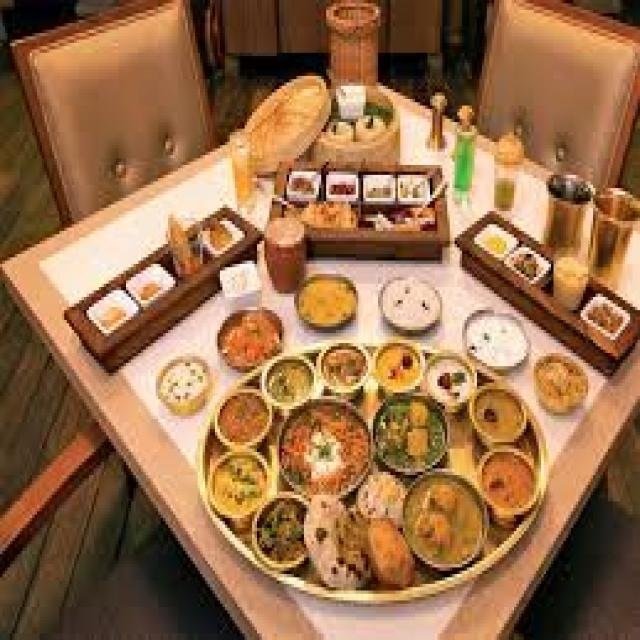curd: (459, 307, 535, 372)
dal: (478, 443, 546, 523), (201, 451, 275, 524)
raita: (459, 305, 536, 371)
rice: (268, 400, 378, 505)
roti: (302, 497, 370, 588)
sambar-rasam: (473, 446, 547, 521), (211, 309, 293, 372)
sweet: (214, 305, 293, 372), (375, 270, 447, 334), (209, 389, 279, 452)
